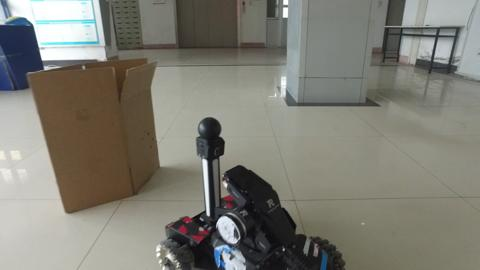chariot: (154, 117, 351, 270)
